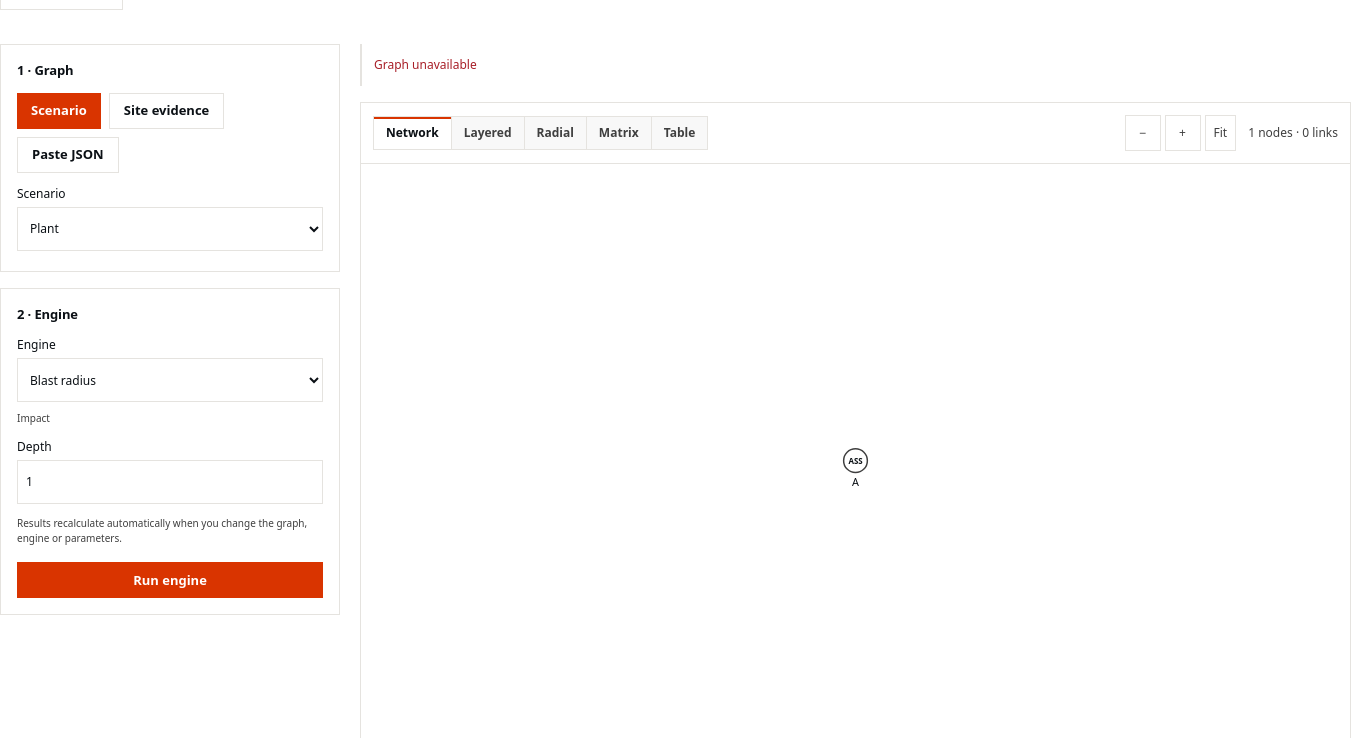
reactive graph analysis › shows analysis failures and recovers on an explicit rerun
(page scrolled)
Check: the message "Graph unavailable" is shown, box [360, 44, 1351, 86]
What coordinates should you click on to do the following:
click the button "Run engine"
I would click on:
 (170, 580)
Its box is [17, 562, 323, 598].
Wait 400 ms
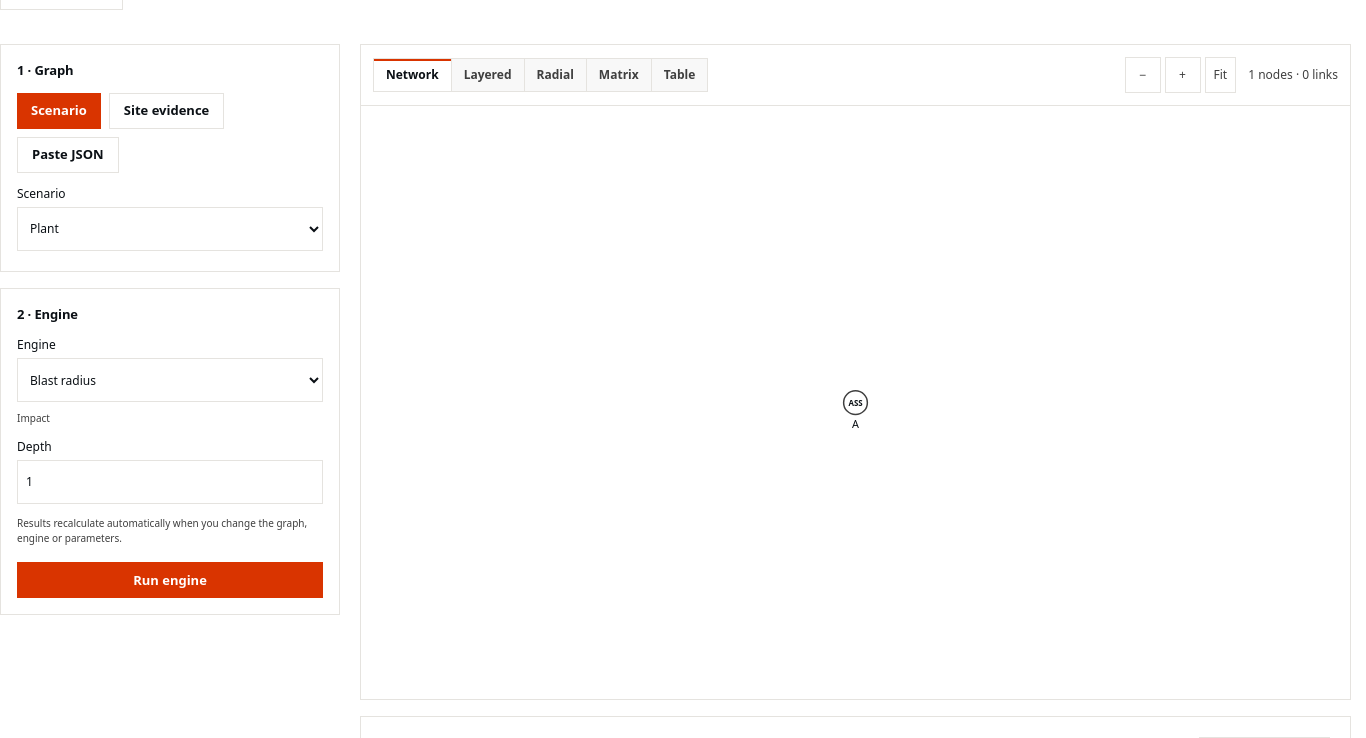
Check: the message "Graph unavailable" is gone
